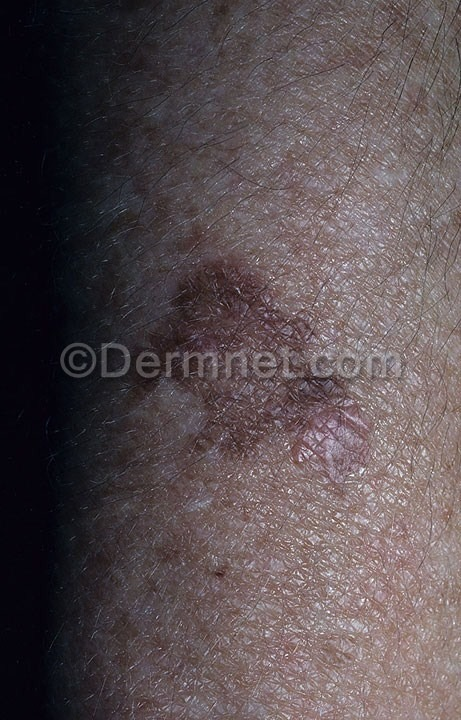Melasma: (88, 160, 350, 347), (154, 379, 376, 599)
